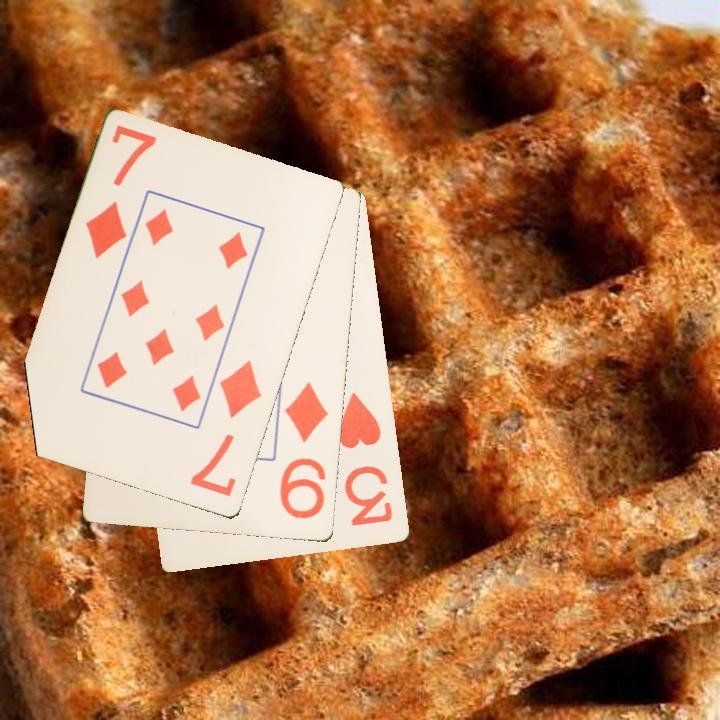3h: (334, 389, 396, 529)
7d: (187, 357, 265, 501), (82, 122, 160, 262)
9d: (276, 378, 332, 523)
